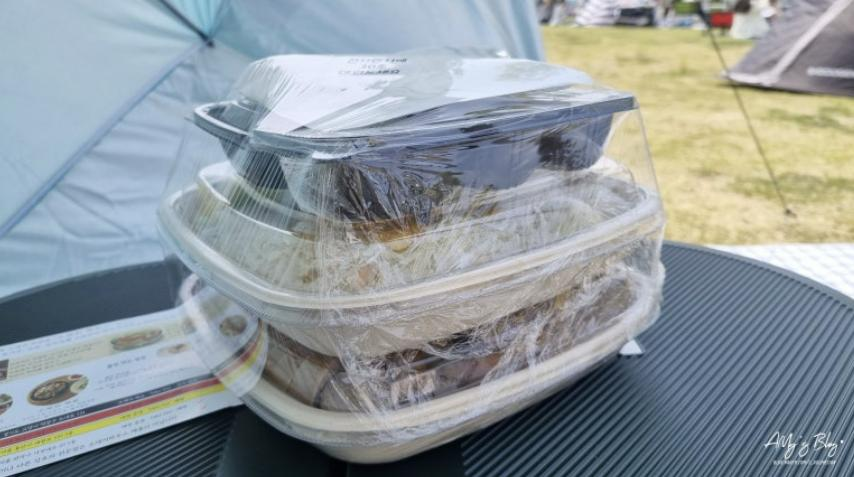Lunch Box: (157, 52, 664, 462), (193, 86, 634, 223)
